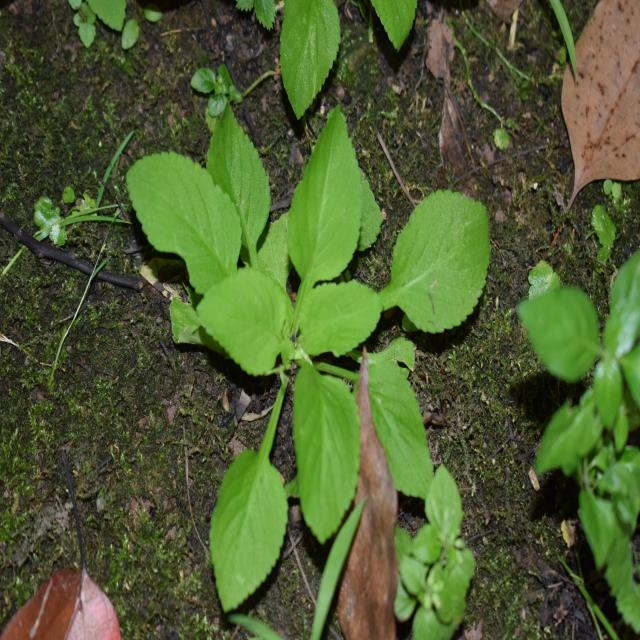Viola: (126, 120, 486, 521)
